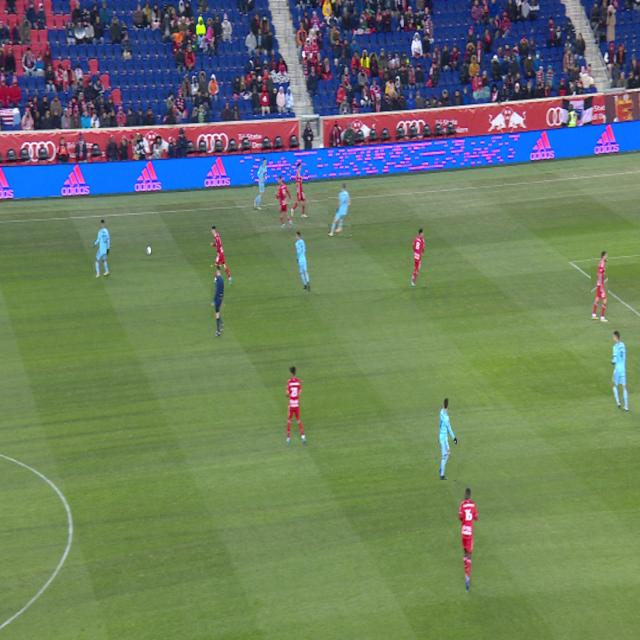football: (146, 245, 151, 255)
player: (458, 488, 478, 589), (286, 366, 306, 443), (439, 398, 457, 480), (611, 331, 628, 411), (210, 226, 233, 285), (329, 184, 351, 237), (592, 251, 608, 322), (94, 219, 110, 278), (291, 163, 308, 217), (295, 232, 310, 291), (275, 176, 292, 228), (411, 229, 425, 287), (253, 158, 267, 210), (219, 275, 221, 284)
referee: (212, 266, 224, 337)
